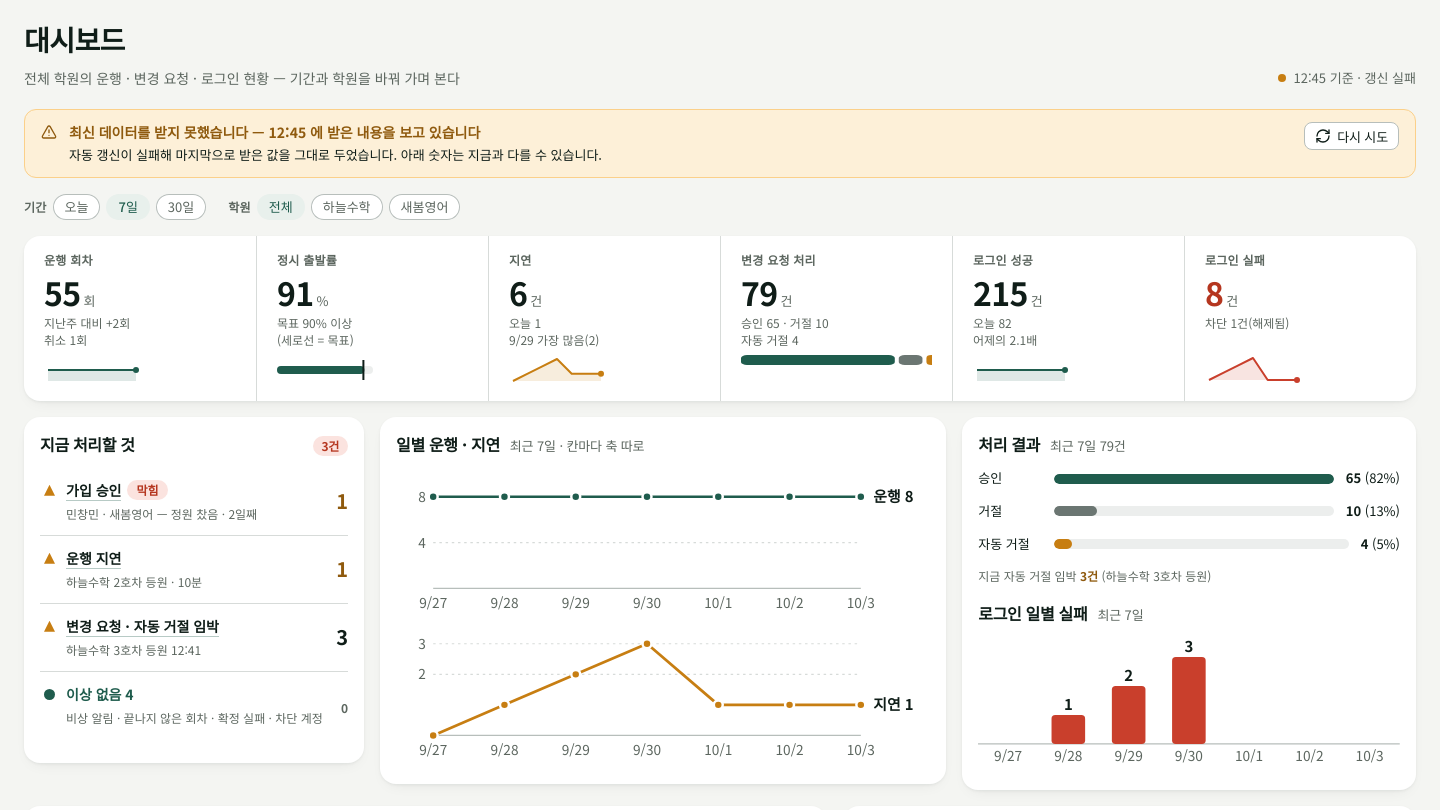
DashboardPage › 30초 갱신이 실패하면 이전 숫자를 그대로 두고 오류 띠 + 다시 시도를 보인다
Expected: the text "215" is shown, [973, 269, 1028, 315]
Expected: the text "최신 데이터를 받지 못했습니다 — 12:45 에 받은 내용을 보고 있습니다" is shown, [69, 122, 480, 142]
Click the button "다시 시도".
click(1352, 136)  # box [1304, 122, 1399, 150]
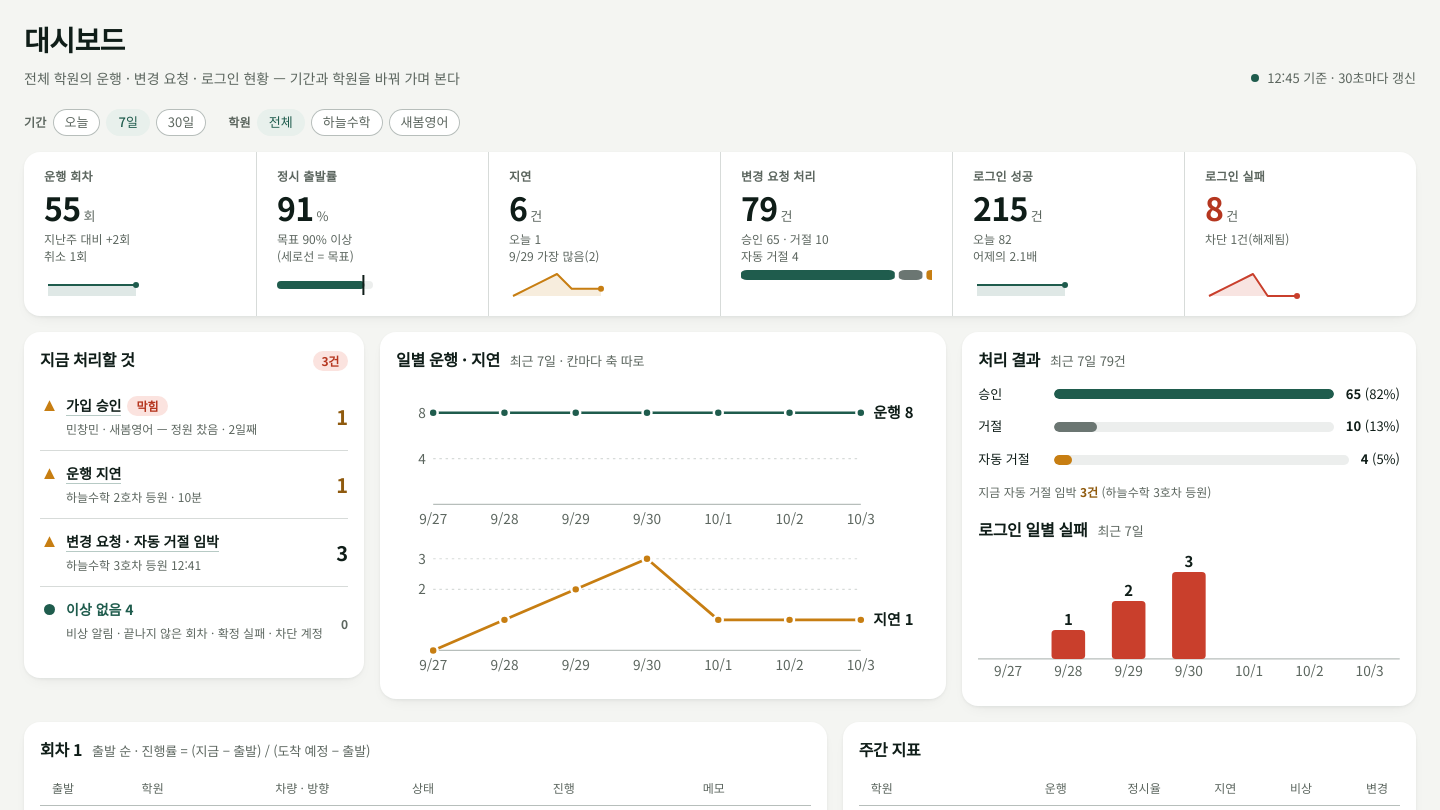
Now the text "최신 데이터를 받지 못했습니다" is gone
Now the text "12:45 기준 · 30초마다 갱신" is shown, box [1251, 67, 1416, 89]
